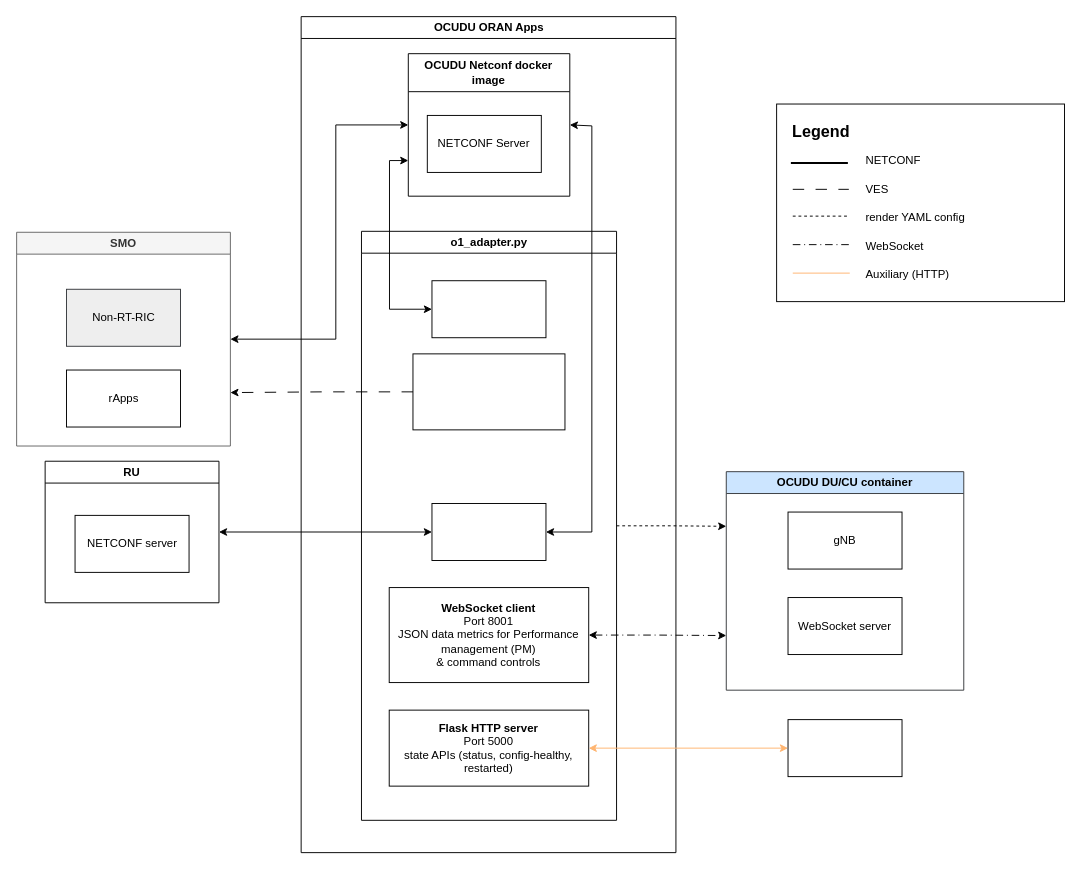
The diagram is 1081 pixels wide and 869 high, and some of its shapes have lost their labels. Here are the shapes that lost their labels. From the top down, the centre of each, then its label:
point 488,309: NETCONF client Port 830
point 488,391: HTTPS client Port 8443 VES event/alarm delivery
point 488,531: NETCONF client Port 830 RU Controller
point 844,748: Docker health check
